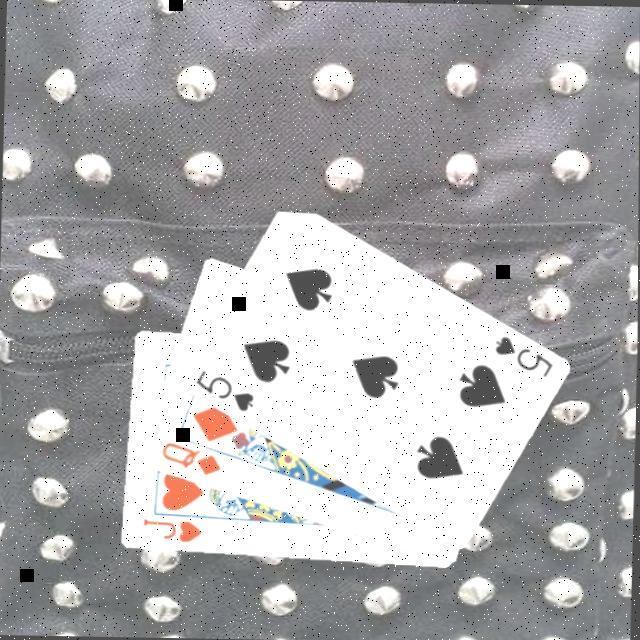5S: (189, 364, 256, 413), (487, 330, 554, 378)
JH: (137, 513, 204, 544)
QD: (154, 436, 223, 477)
